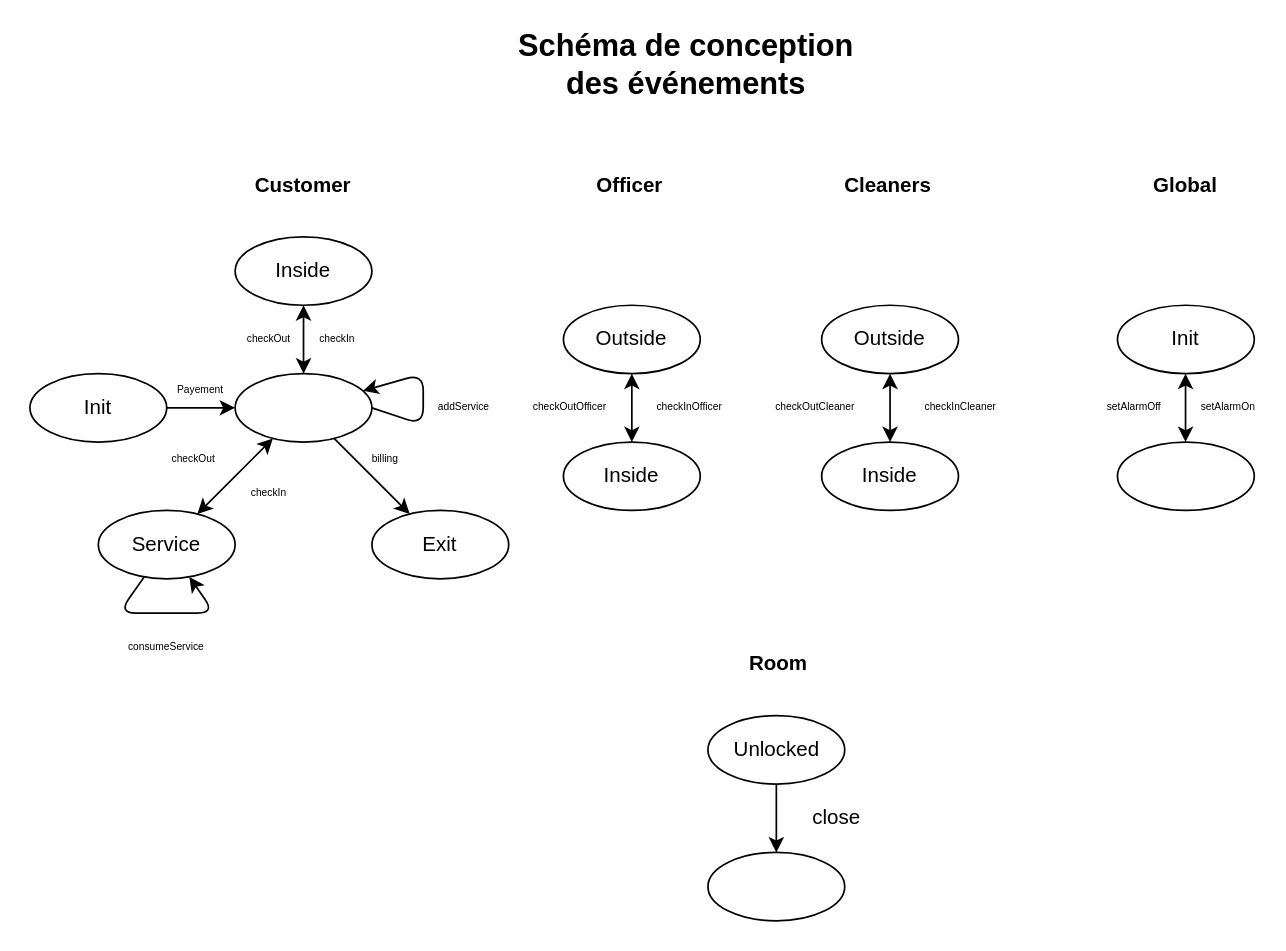
Some shapes in this 1286 by 951 pixel diagram are drawn without their labels. The shapes that lost their labels are listed below. From the top down, each one's centre as x and y in pixels, then its label:
At pixel 302 407: "Reserved".
At pixel 1185 475: "Alarm".
At pixel 775 886: "Locked".
